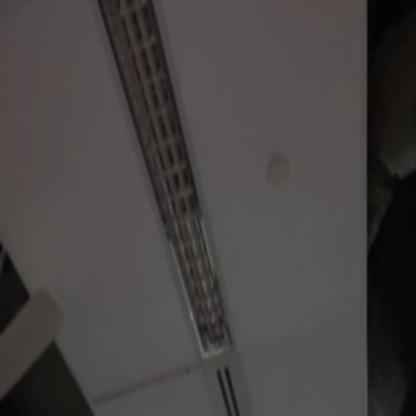light_off: (84, 4, 256, 363)
